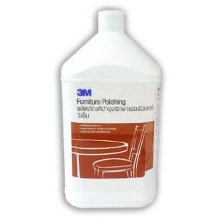cleaning_solution: (56, 7, 162, 209)
